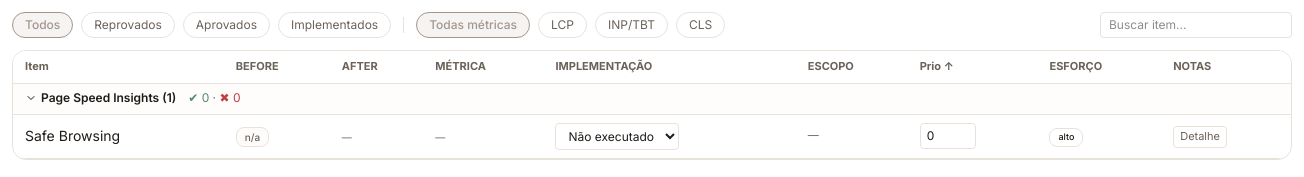
Scenario: ChecklistGrid › item na não conta como reprovado
The image size is (1304, 177).
What coordinates should you click on to do the following:
click the button "Reprovados"
I would click on:
 (128, 25)
Its box is [81,12,175,38].
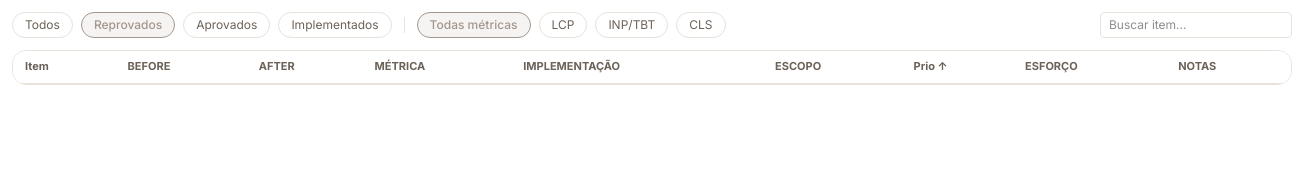
Expected: the text "Safe Browsing" is gone
